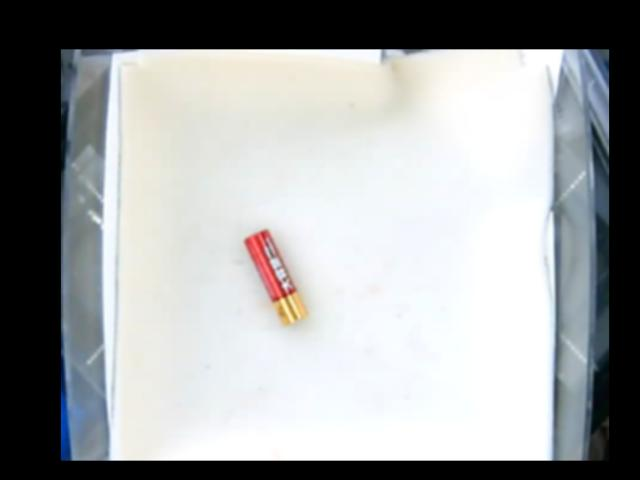Battery: (242, 227, 305, 320)
